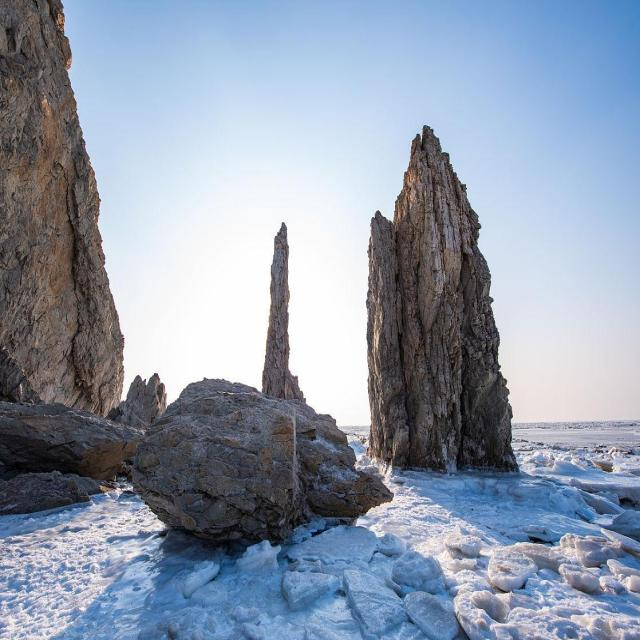reef: (366, 131, 544, 491), (145, 248, 355, 525), (0, 299, 137, 520)
